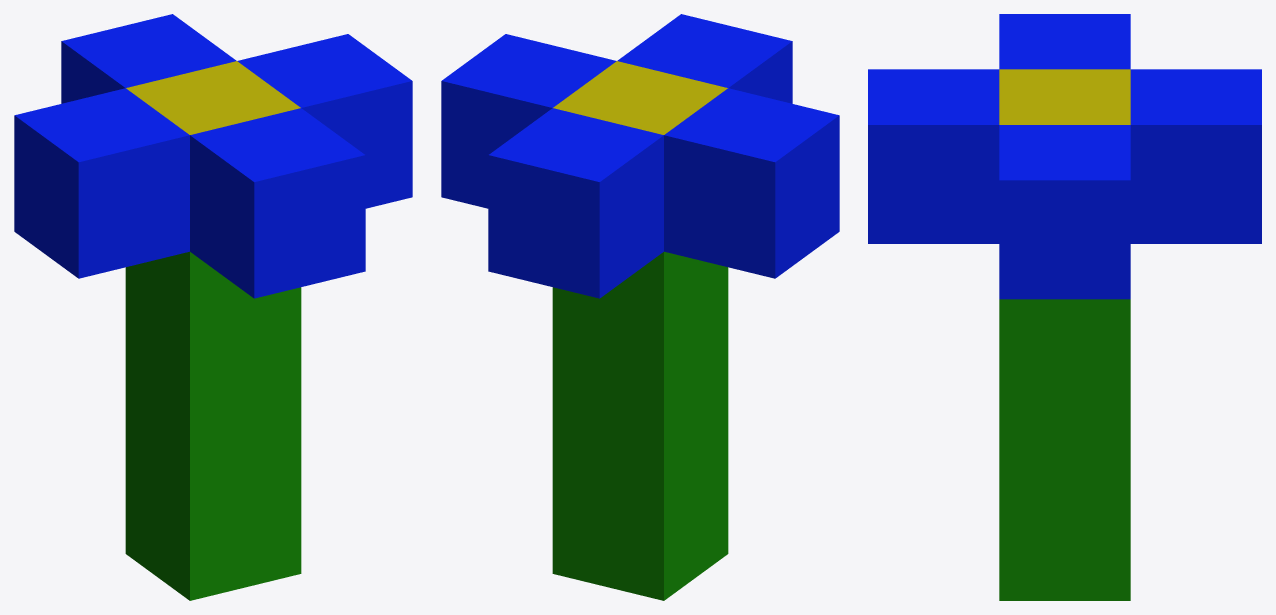
The model's file is (3) Blue Flowers (Stage 5).obj.
3 renders of one model, left to right at view 1: azimuth 30°, elevation 25°; view 2: azimuth 150°, elevation 25°; view 3: azimuth 270°, elevation 25°, orthographic. The views are drawn at different scales.
Size of the model in its own units: 0.3 by 0.4 by 0.3.
1 material, 1 textured.
